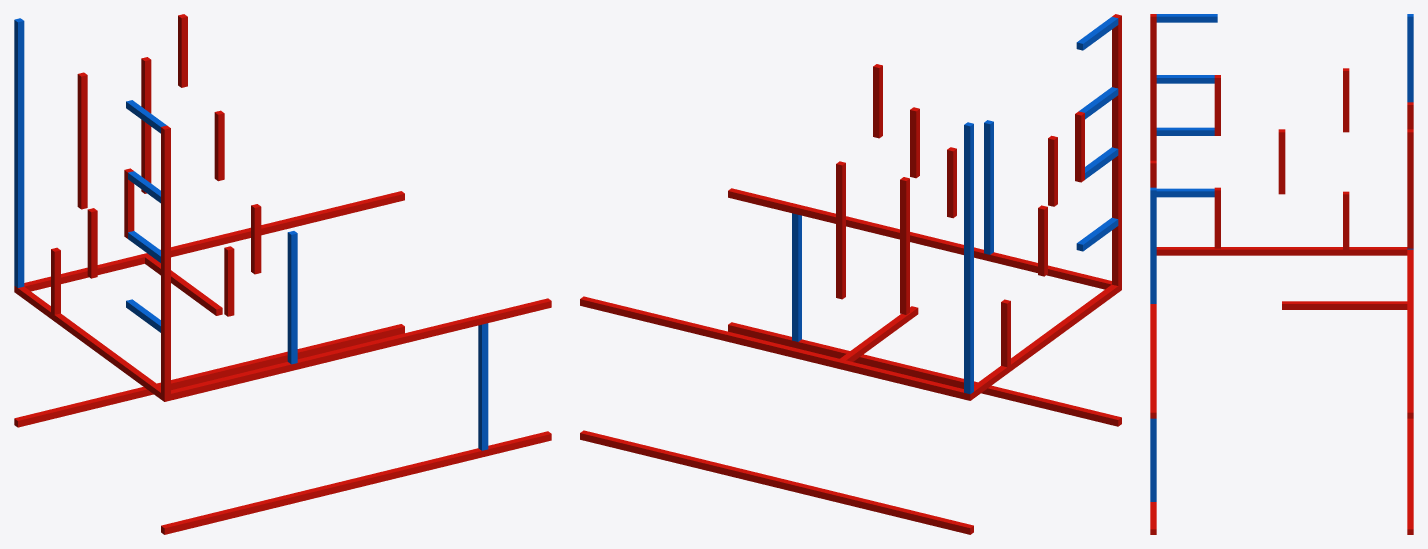
The model's file is level_3_real.fbx.
The picture shows the model from 3 angles, left to right: view 1: azimuth 30°, elevation 25°; view 2: azimuth 150°, elevation 25°; view 3: azimuth 270°, elevation 25°; orthographic projection. The views are drawn at different scales.
Parts seen in each view (by area): view 1: 立方体.016; view 2: 立方体.016; view 3: 立方体.016.
Part boxes in pixels (x1,y1,x2,y2): 立方体.016: [14, 14, 551, 534]; 立方体.016: [580, 14, 1121, 534]; 立方体.016: [1150, 14, 1413, 534].
Bounding box in the file's own units: 1220 × 1220 × 820.
